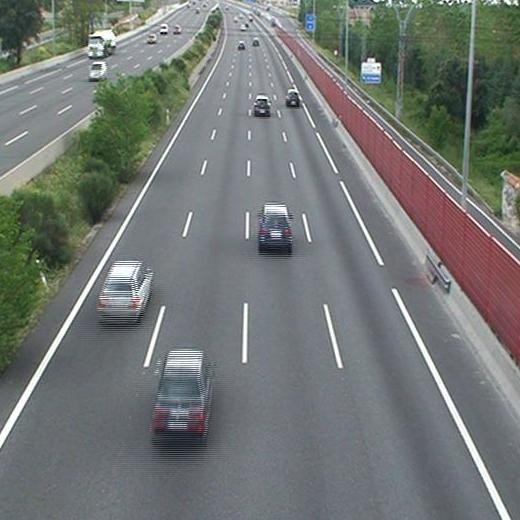car: (153, 351, 208, 433), (99, 262, 150, 319), (260, 206, 292, 245), (253, 95, 271, 116), (285, 90, 300, 106), (237, 41, 245, 49), (251, 38, 259, 45)
